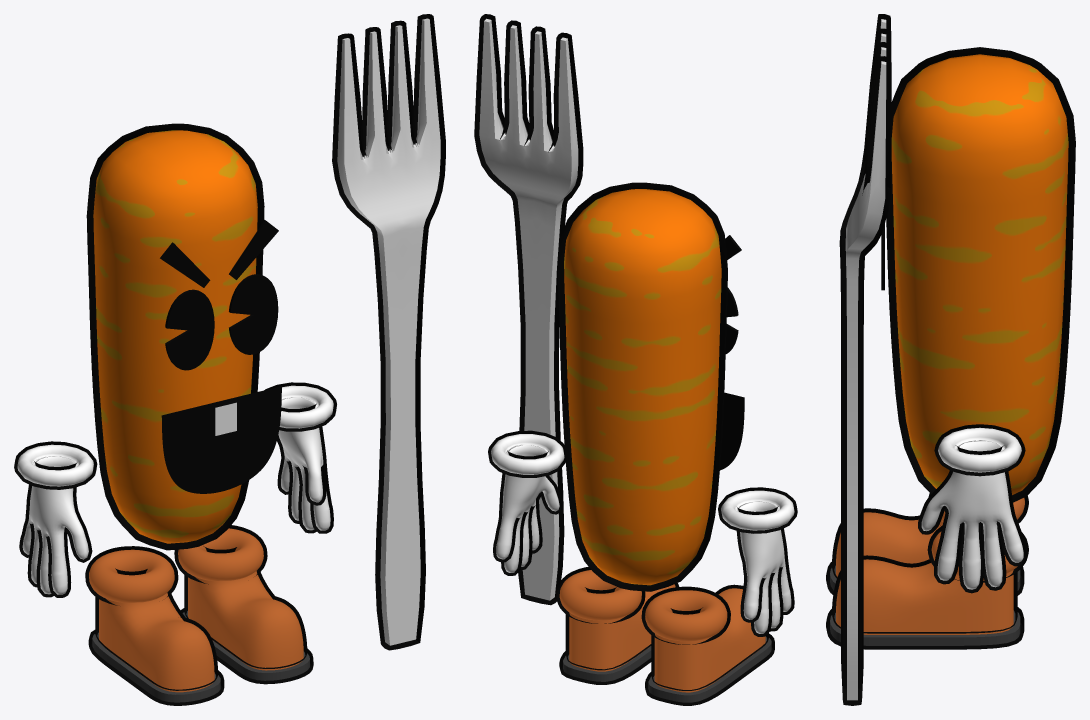
File: Carrot (Only model).fbx
3 views of the same model, side by side, from view 1: azimuth 30°, elevation 25°; view 2: azimuth 150°, elevation 25°; view 3: azimuth 270°, elevation 25° (orthographic). The views are drawn at different scales.
Parts seen in each view (by area): view 1: Body, Cube, Shoes, Hands, Mouth, Eyes, Eyebrow; view 2: Body, Cube, Shoes, Hands, Mouth, Eyes; view 3: Body, Shoes, Cube, Hands.
Part boxes in pixels (left/top/right/bottom): Body: left=86, top=123, right=264, bottom=550; Cube: left=332, top=14, right=445, bottom=650; Shoes: left=85, top=525, right=313, bottom=705; Hands: left=14, top=382, right=336, bottom=597; Mouth: left=161, top=386, right=281, bottom=493; Eyes: left=165, top=274, right=278, bottom=370; Eyebrow: left=160, top=220, right=278, bottom=287; Body: left=557, top=182, right=727, bottom=591; Cube: left=474, top=14, right=583, bottom=605; Shoes: left=556, top=566, right=774, bottom=705; Hands: left=488, top=430, right=797, bottom=636; Mouth: left=720, top=392, right=744, bottom=470; Eyes: left=725, top=287, right=738, bottom=353; Body: left=886, top=47, right=1075, bottom=502; Shoes: left=826, top=493, right=1028, bottom=649; Cube: left=839, top=14, right=891, bottom=705; Hands: left=918, top=424, right=1027, bottom=593.
Size of the model in its own units: 128 by 68.27 by 200.
7 materials, 1 textured.
